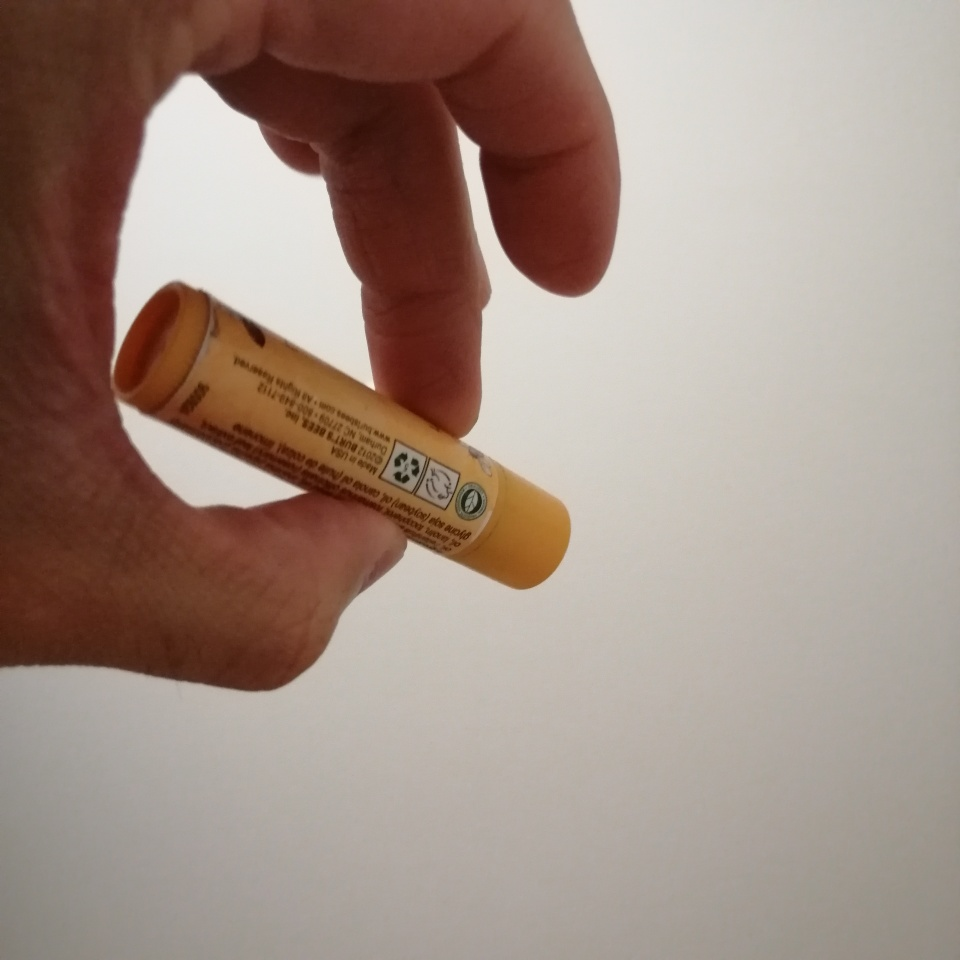chapstick: (108, 282, 572, 592)
